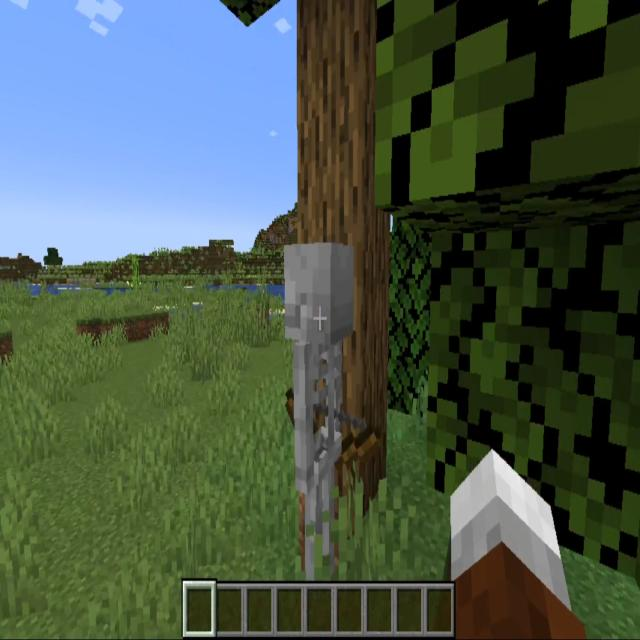Skeleton: (276, 240, 358, 592)
